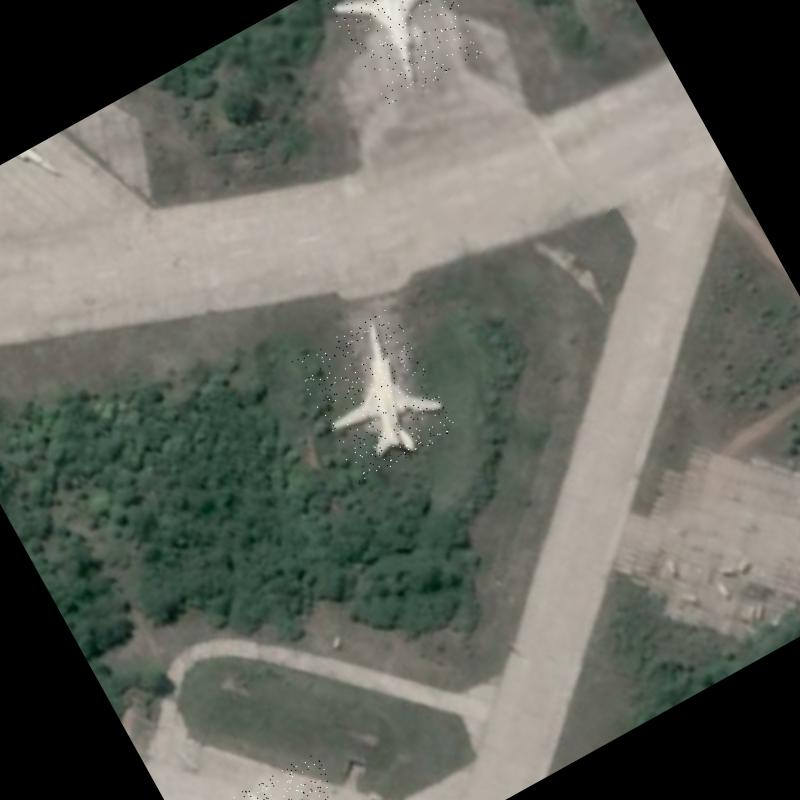A12: (291, 306, 458, 483), (318, 0, 486, 109), (200, 750, 372, 800)
